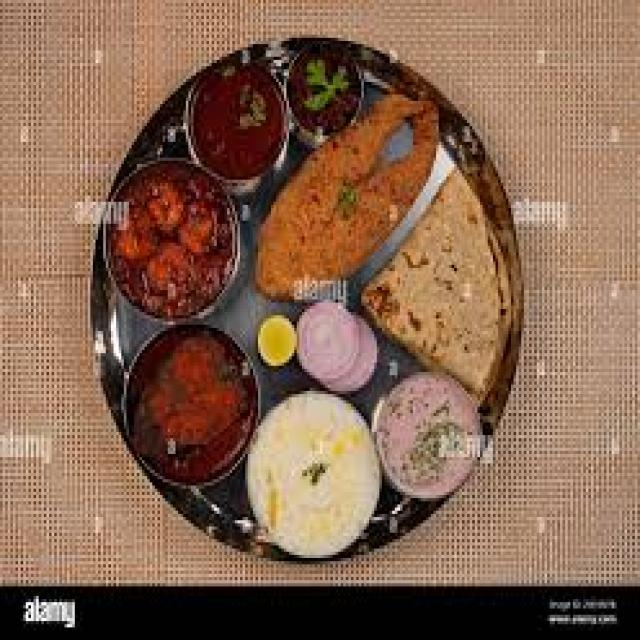DOSA: (250, 91, 434, 293)
